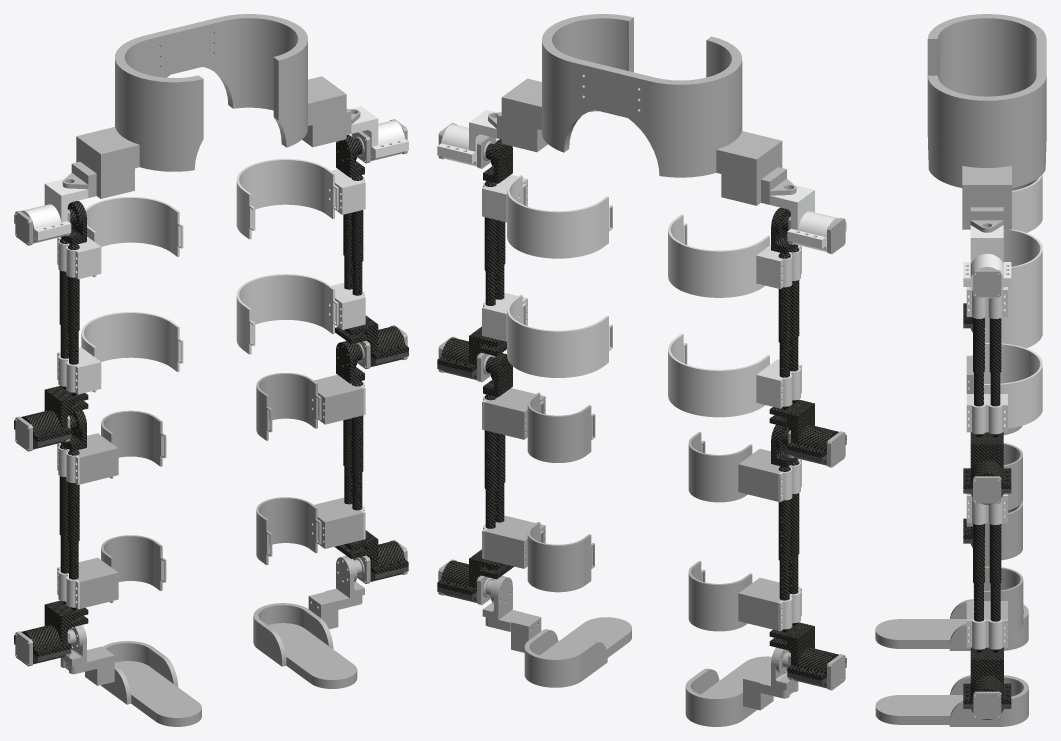
The model's file is exoskeleton.glb.
The picture shows the model from 3 angles, left to right: view 1: azimuth 30°, elevation 25°; view 2: azimuth 150°, elevation 25°; view 3: azimuth 270°, elevation 25°; orthographic projection. The views are drawn at different scales.
Visible parts, largest first — view 1: Solid2 (×25); view 2: Solid2 (×25); view 3: Solid2 (×23).
Part boxes in pixels (bbox=[...]): Solid2 (×25): bbox=[14, 14, 408, 726]; Solid2 (×25): bbox=[437, 14, 846, 726]; Solid2 (×23): bbox=[875, 14, 1046, 726].
Bounding box in the file's own units: 0.885 × 1.38 × 0.3459.
Materials: 7 (2 with a texture image).
